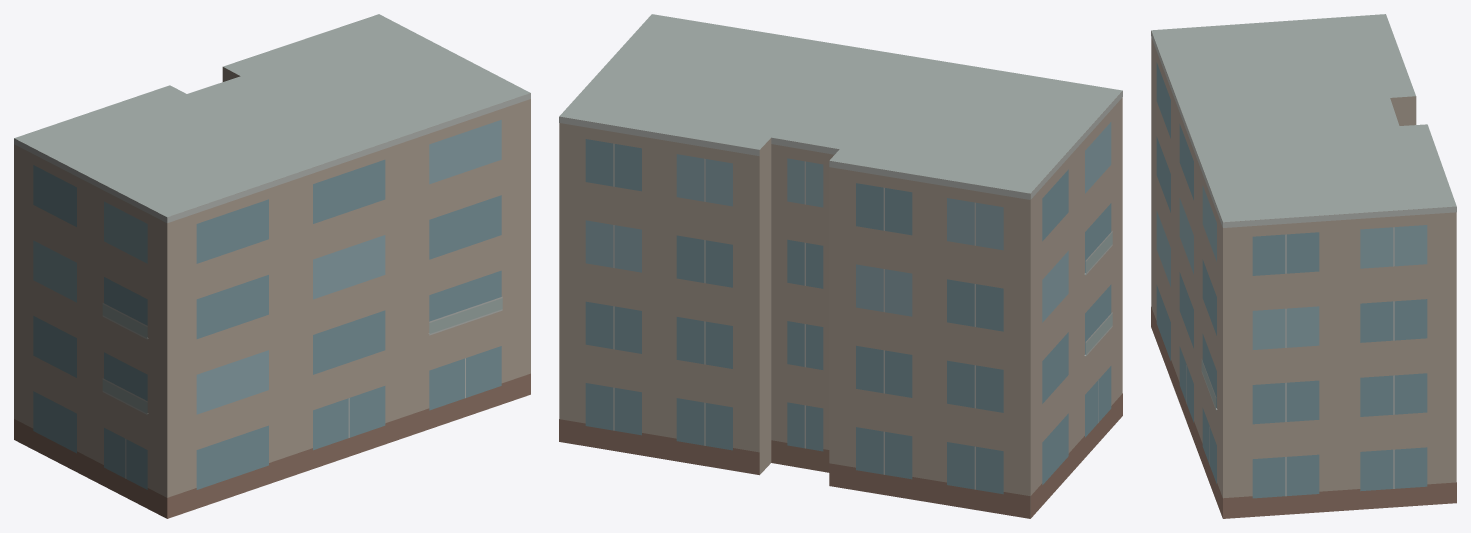
The model's file is survey-upis-32616207.glb.
The picture shows the model from 3 angles, left to right: view 1: azimuth 30°, elevation 25°; view 2: azimuth 150°, elevation 25°; view 3: azimuth 270°, elevation 25°; orthographic projection. The views are drawn at different scales.
Parts seen in each view (by area): view 1: survey-upis-32616207.tmp; view 2: survey-upis-32616207.tmp; view 3: survey-upis-32616207.tmp.
Boxes of the visible parts, left/top/right/bottom form: survey-upis-32616207.tmp: left=14, top=14, right=530, bottom=518; survey-upis-32616207.tmp: left=559, top=14, right=1122, bottom=518; survey-upis-32616207.tmp: left=1151, top=14, right=1456, bottom=518.
Size of the model in its own units: 18.68 by 12.4 by 11.59.
